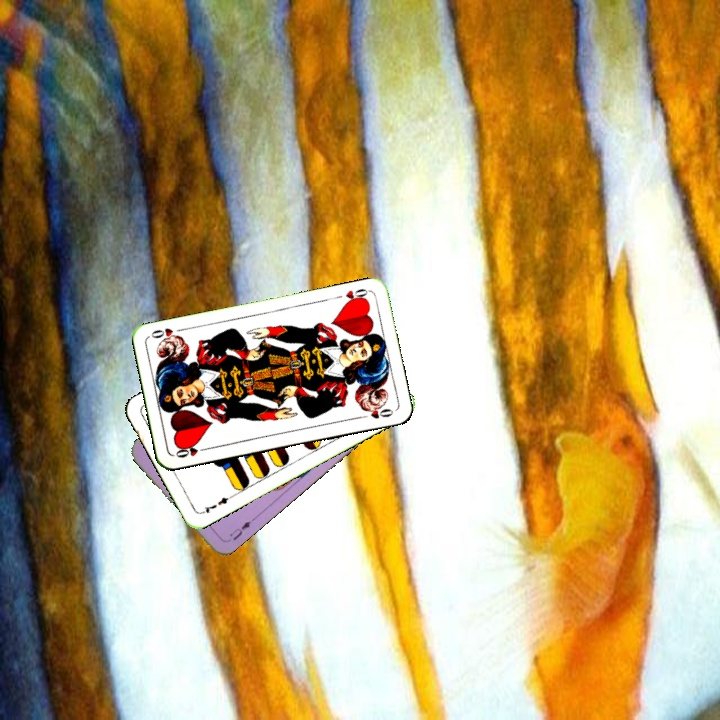E7: (197, 491, 235, 516)
EU: (226, 517, 253, 543)
HO: (171, 440, 211, 460), (341, 285, 372, 307)
